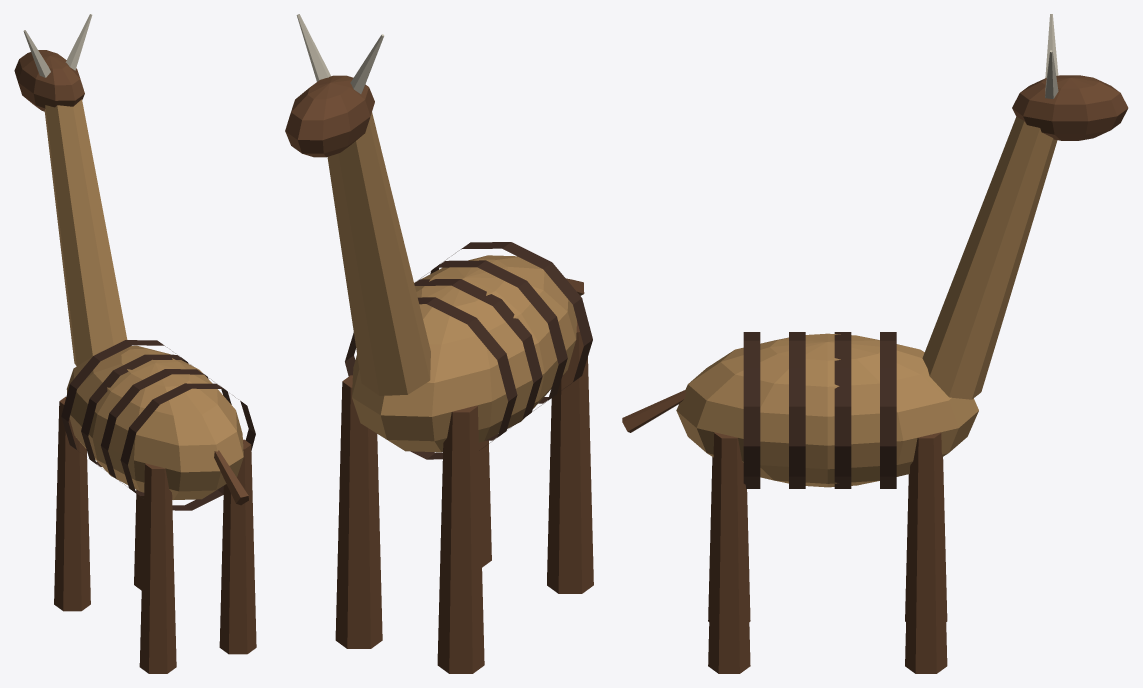
File: grazer_tall.glb
3 renders of one model, left to right at view 1: azimuth 30°, elevation 25°; view 2: azimuth 150°, elevation 25°; view 3: azimuth 270°, elevation 25°, orthographic. The views are drawn at different scales.
Parts seen in each view (by area): view 1: grazer_tall; view 2: grazer_tall; view 3: grazer_tall.
Part boxes in pixels (left/top/right/bottom): grazer_tall: left=14, top=14, right=256, bottom=673; grazer_tall: left=285, top=14, right=593, bottom=673; grazer_tall: left=622, top=14, right=1128, bottom=673.
Size of the model in its own units: 2.24 by 8.92 by 6.68.
